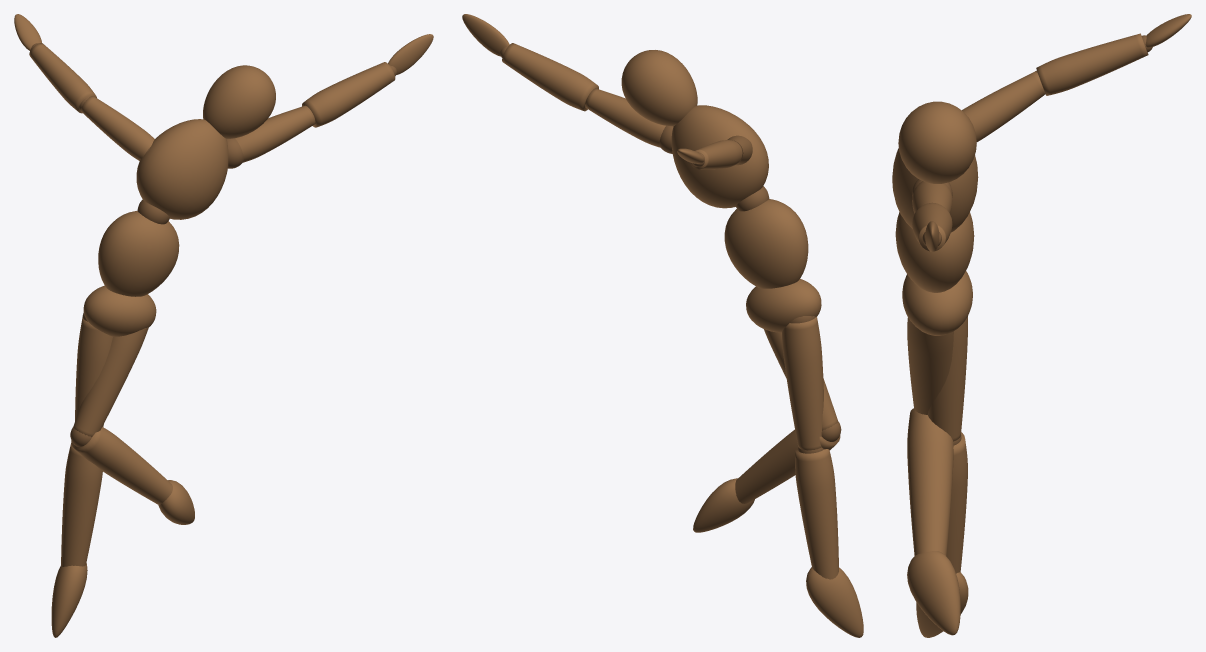
The model's file is mannequin-smooth.glb.
3 views of the same model, side by side, from view 1: azimuth 30°, elevation 25°; view 2: azimuth 150°, elevation 25°; view 3: azimuth 270°, elevation 25° (orthographic). The views are drawn at different scales.
Parts seen in each view (by area): view 1: chest, abdomen, head, shin_R, shin_L, thigh_L, pelvis, forearm_L, upper_arm_L, upper_arm_R, thigh_R, forearm_R (+4 smaller); view 2: chest, abdomen, thigh_R, head, shin_R, forearm_L, pelvis, shin_L, foot_R, upper_arm_L, foot_L, forearm_R (+2 smaller); view 3: shin_L, head, abdomen, forearm_R, foot_L, pelvis, thigh_L, upper_arm_R, thigh_R, chest, shin_R, forearm_L (+3 smaller).
Part boxes in pixels (left/top/right/bottom): chest: left=136, top=119, right=228, bottom=219; abdomen: left=98, top=210, right=179, bottom=296; head: left=203, top=65, right=275, bottom=138; shin_R: left=61, top=443, right=102, bottom=566; shin_L: left=71, top=427, right=172, bottom=504; thigh_L: left=73, top=327, right=148, bottom=436; pelvis: left=83, top=285, right=156, bottom=336; forearm_L: left=302, top=62, right=395, bottom=127; upper_arm_L: left=235, top=105, right=315, bottom=162; upper_arm_R: left=80, top=96, right=154, bottom=160; thigh_R: left=75, top=317, right=112, bottom=426; forearm_R: left=29, top=43, right=96, bottom=113; chest: left=671, top=105, right=768, bottom=208; abdomen: left=724, top=199, right=808, bottom=288; thigh_R: left=782, top=316, right=823, bottom=450; head: left=621, top=50, right=697, bottom=126; shin_R: left=795, top=449, right=838, bottom=579; forearm_L: left=502, top=43, right=598, bottom=111; pelvis: left=746, top=279, right=821, bottom=332; shin_L: left=735, top=429, right=840, bottom=503; foot_R: left=806, top=567, right=863, bottom=637; upper_arm_L: left=585, top=88, right=665, bottom=147; foot_L: left=693, top=478, right=754, bottom=532; forearm_R: left=690, top=140, right=743, bottom=169; shin_L: left=907, top=408, right=953, bottom=556; head: left=898, top=101, right=976, bottom=183; abdomen: left=895, top=212, right=974, bottom=292; forearm_R: left=1036, top=33, right=1148, bottom=95; foot_L: left=907, top=551, right=960, bottom=635; pelvis: left=902, top=271, right=972, bottom=335; thigh_L: left=907, top=317, right=953, bottom=414; upper_arm_R: left=962, top=71, right=1045, bottom=141; thigh_R: left=927, top=316, right=967, bottom=441; chest: left=892, top=148, right=978, bottom=232; shin_R: left=946, top=432, right=967, bottom=573; forearm_L: left=912, top=202, right=952, bottom=251.
Bounding box in the file's own units: 6.25 × 8.26 × 3.38.
